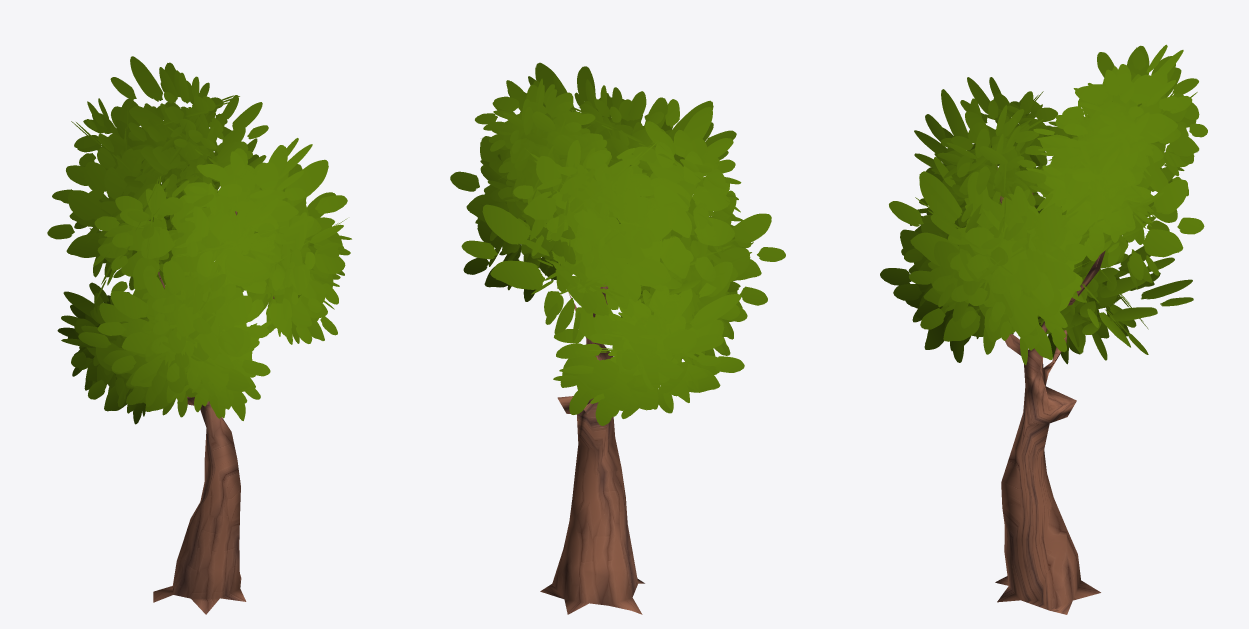
Rendered from CommonTree_5_L.gltf.
3 views of the same model, side by side, from view 1: azimuth 30°, elevation 25°; view 2: azimuth 150°, elevation 25°; view 3: azimuth 270°, elevation 25° (orthographic). The views are drawn at different scales.
Parts seen in each view (by area): view 1: CommonTree_5_L; view 2: CommonTree_5_L; view 3: CommonTree_5_L.
Part boxes in pixels (<box>): CommonTree_5_L: <box>47,56,351,614</box>; CommonTree_5_L: <box>450,62,785,614</box>; CommonTree_5_L: <box>880,44,1207,614</box>.
Bounding box in the file's own units: 4.74 × 7.35 × 4.49.
Materials: 2 (2 with a texture image).
